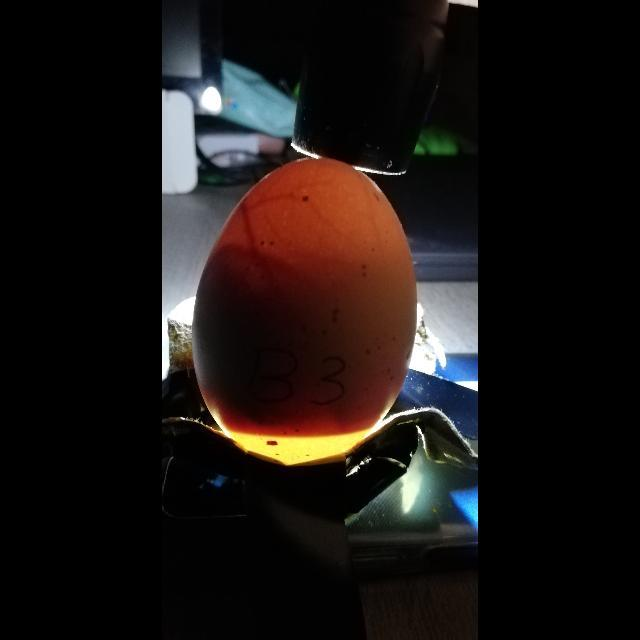Fertile: (187, 156, 417, 467)
